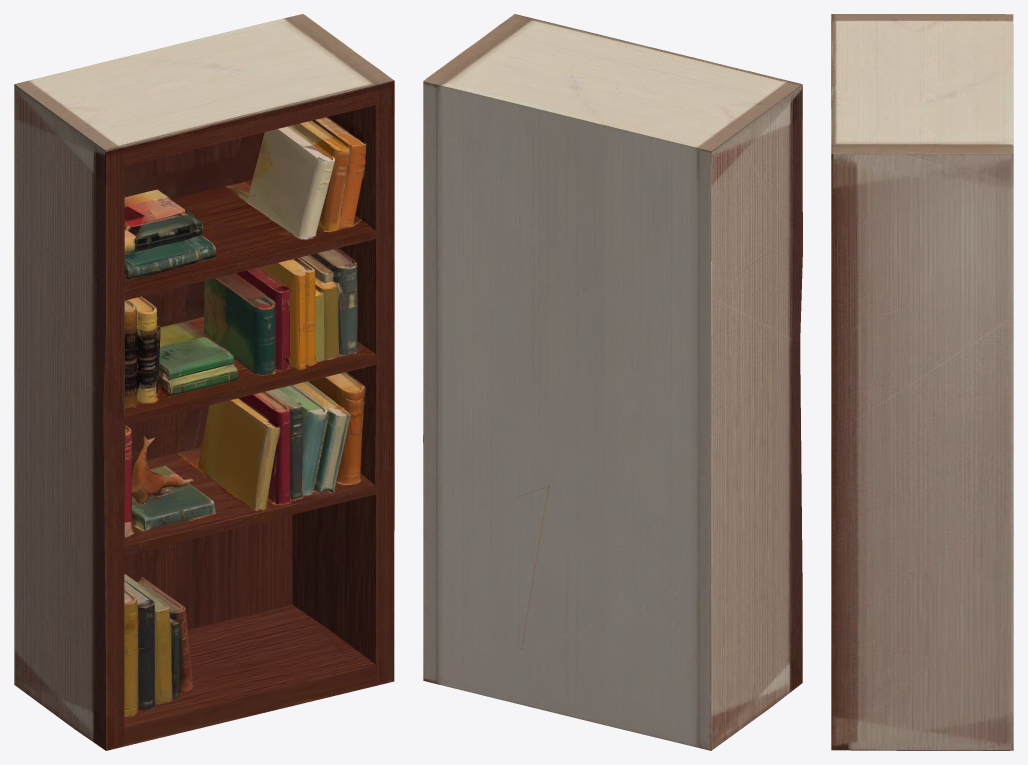
3 views of the same model, side by side, from view 1: azimuth 30°, elevation 25°; view 2: azimuth 150°, elevation 25°; view 3: azimuth 270°, elevation 25° (orthographic).
Size of the model in its own units: 0.9543 by 1.9 by 0.5262.
Materials: 1 (1 with a texture image).
